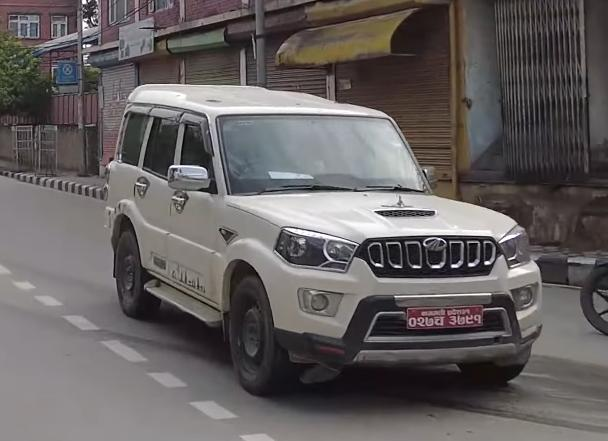SUV: (99, 75, 554, 407)
